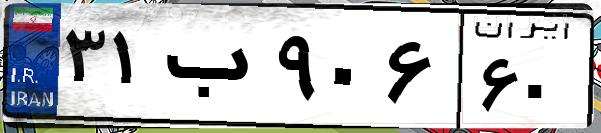0: (330, 28, 385, 110), (525, 38, 570, 115)
1: (110, 28, 158, 98)
3: (57, 26, 110, 100)
6: (385, 28, 445, 110), (475, 38, 525, 113)
9: (270, 28, 330, 110)
ب: (158, 20, 270, 120)
